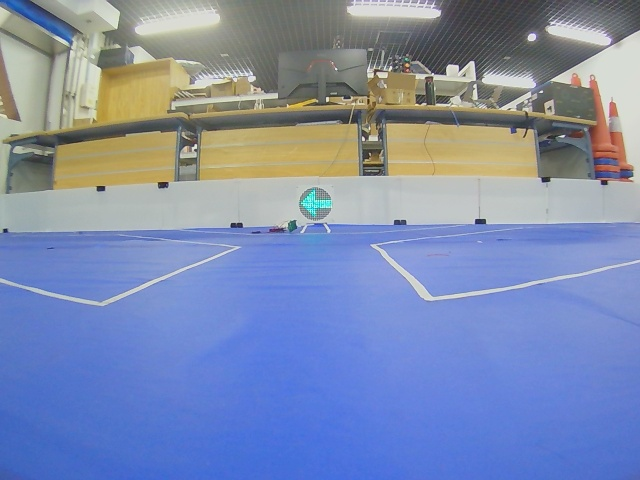left_green: (299, 187, 333, 221)
